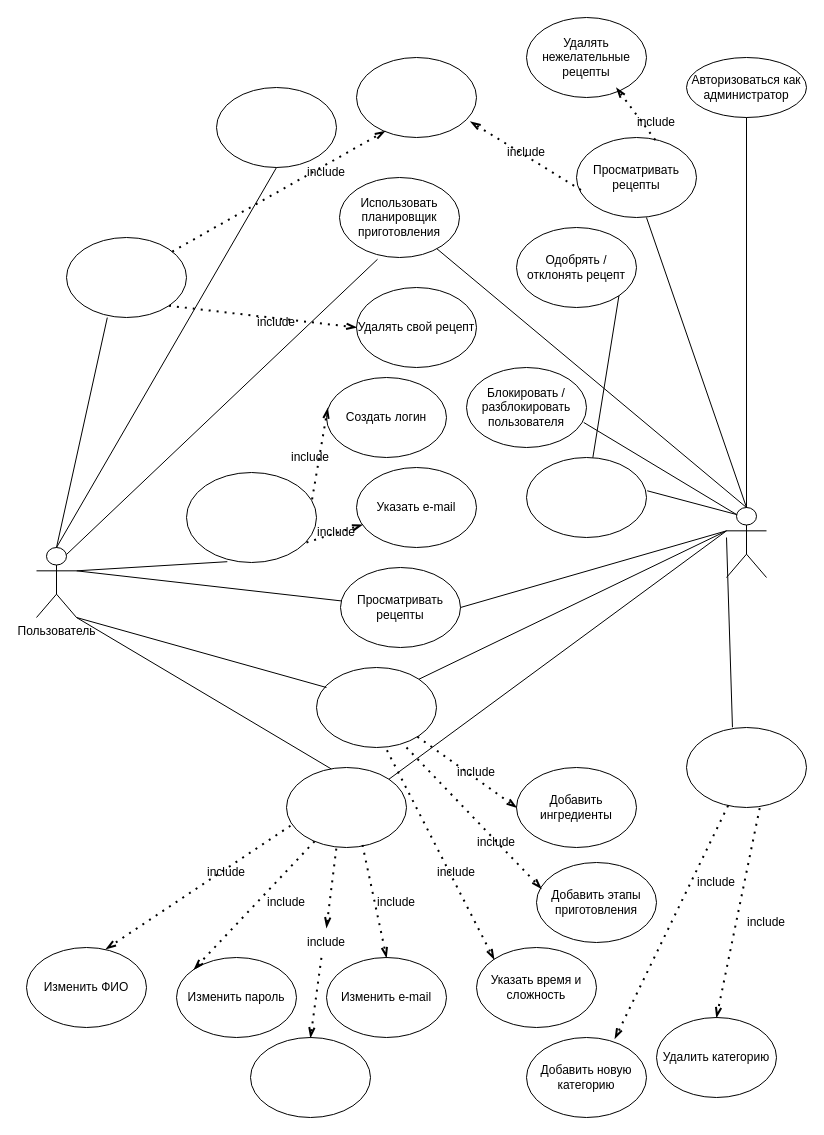
Image size: 824x1135. Some labels were removed from this diagram. The shapes that lost their labels are listed below. From the top down, each one's centre as x and y in pixels, then its label:
At [416,97]: "Редактировать рецепт".
At [276,127]: "Просматривать профиль".
At [126,277]: "Просматривать свои рецепты".
At [251,517]: "Авторизоваться / Зарегистрироваться".
At [586,497]: "Просматривать заявки на публикацию".
At [746,542]: "Администратор".
At [376,707]: "Создавать рецепт".
At [746,767]: "Редактировать категории ингредиентов".
At [346,807]: "Редактировать профиль".
At [310,1077]: "Изменить дату рождения".
